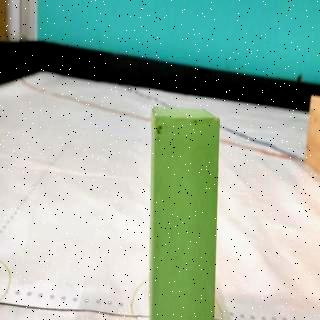greenbox: (148, 103, 220, 320)
